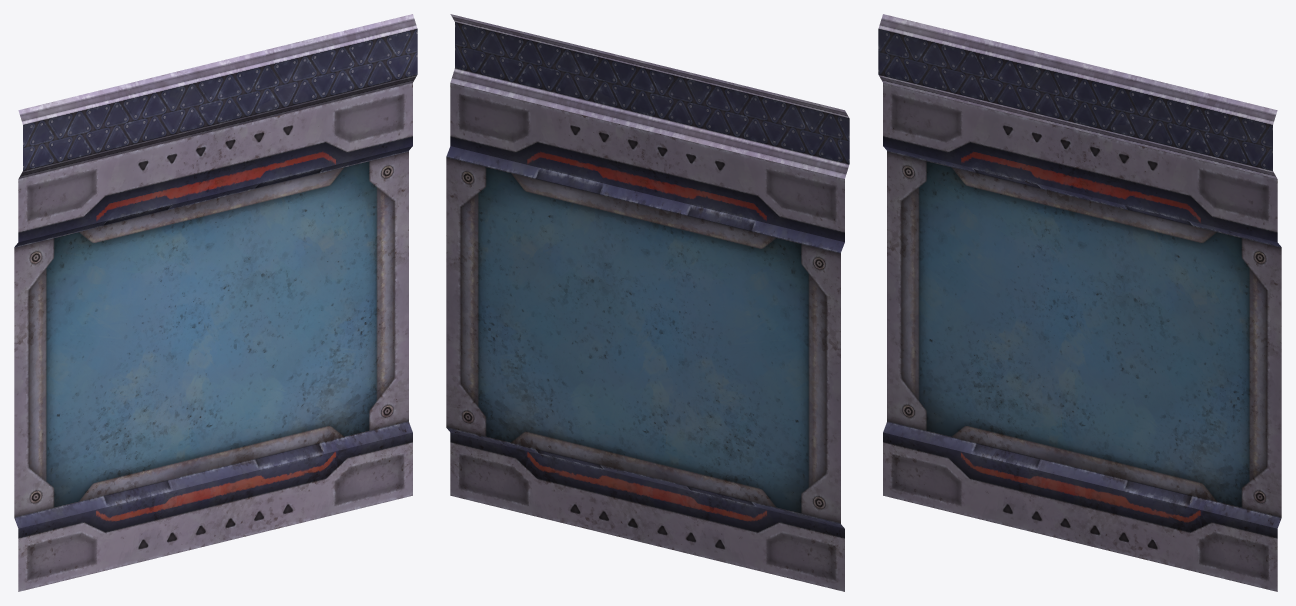
The model's file is SM_GlassPanel02_Alt.fbx.
3 views of the same model, side by side, from view 1: azimuth 30°, elevation 25°; view 2: azimuth 150°, elevation 25°; view 3: azimuth 330°, elevation 25° (orthographic).
Visible parts, largest first — view 1: SM_GlassPanel02_Alt; view 2: SM_GlassPanel02_Alt; view 3: SM_GlassPanel02_Alt.
Part boxes in pixels (x1,y1,x2,y2): SM_GlassPanel02_Alt: [14, 14, 417, 591]; SM_GlassPanel02_Alt: [446, 14, 849, 591]; SM_GlassPanel02_Alt: [878, 14, 1281, 591].
Size of the model in its own units: 600 by 700 by 22.73.
